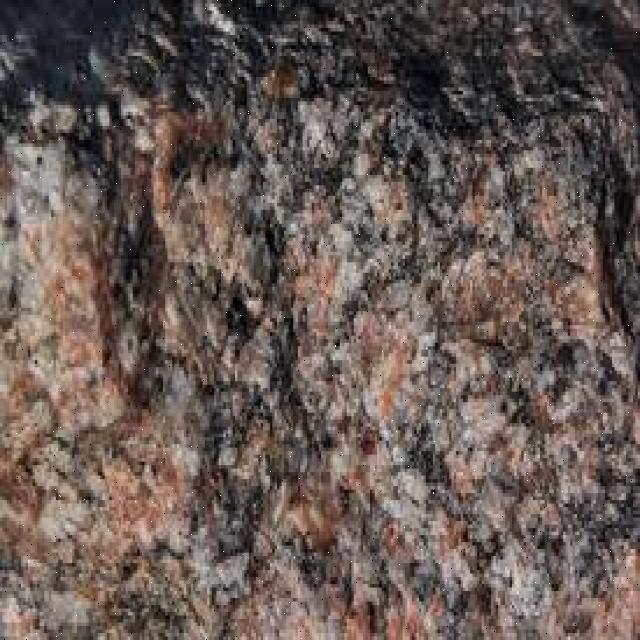Metamorphic: (2, 7, 633, 633)
